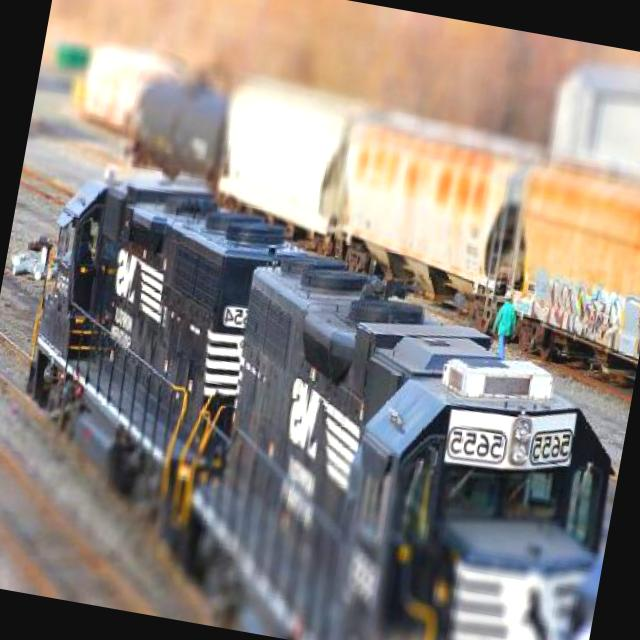Person: (489, 286, 524, 361)
